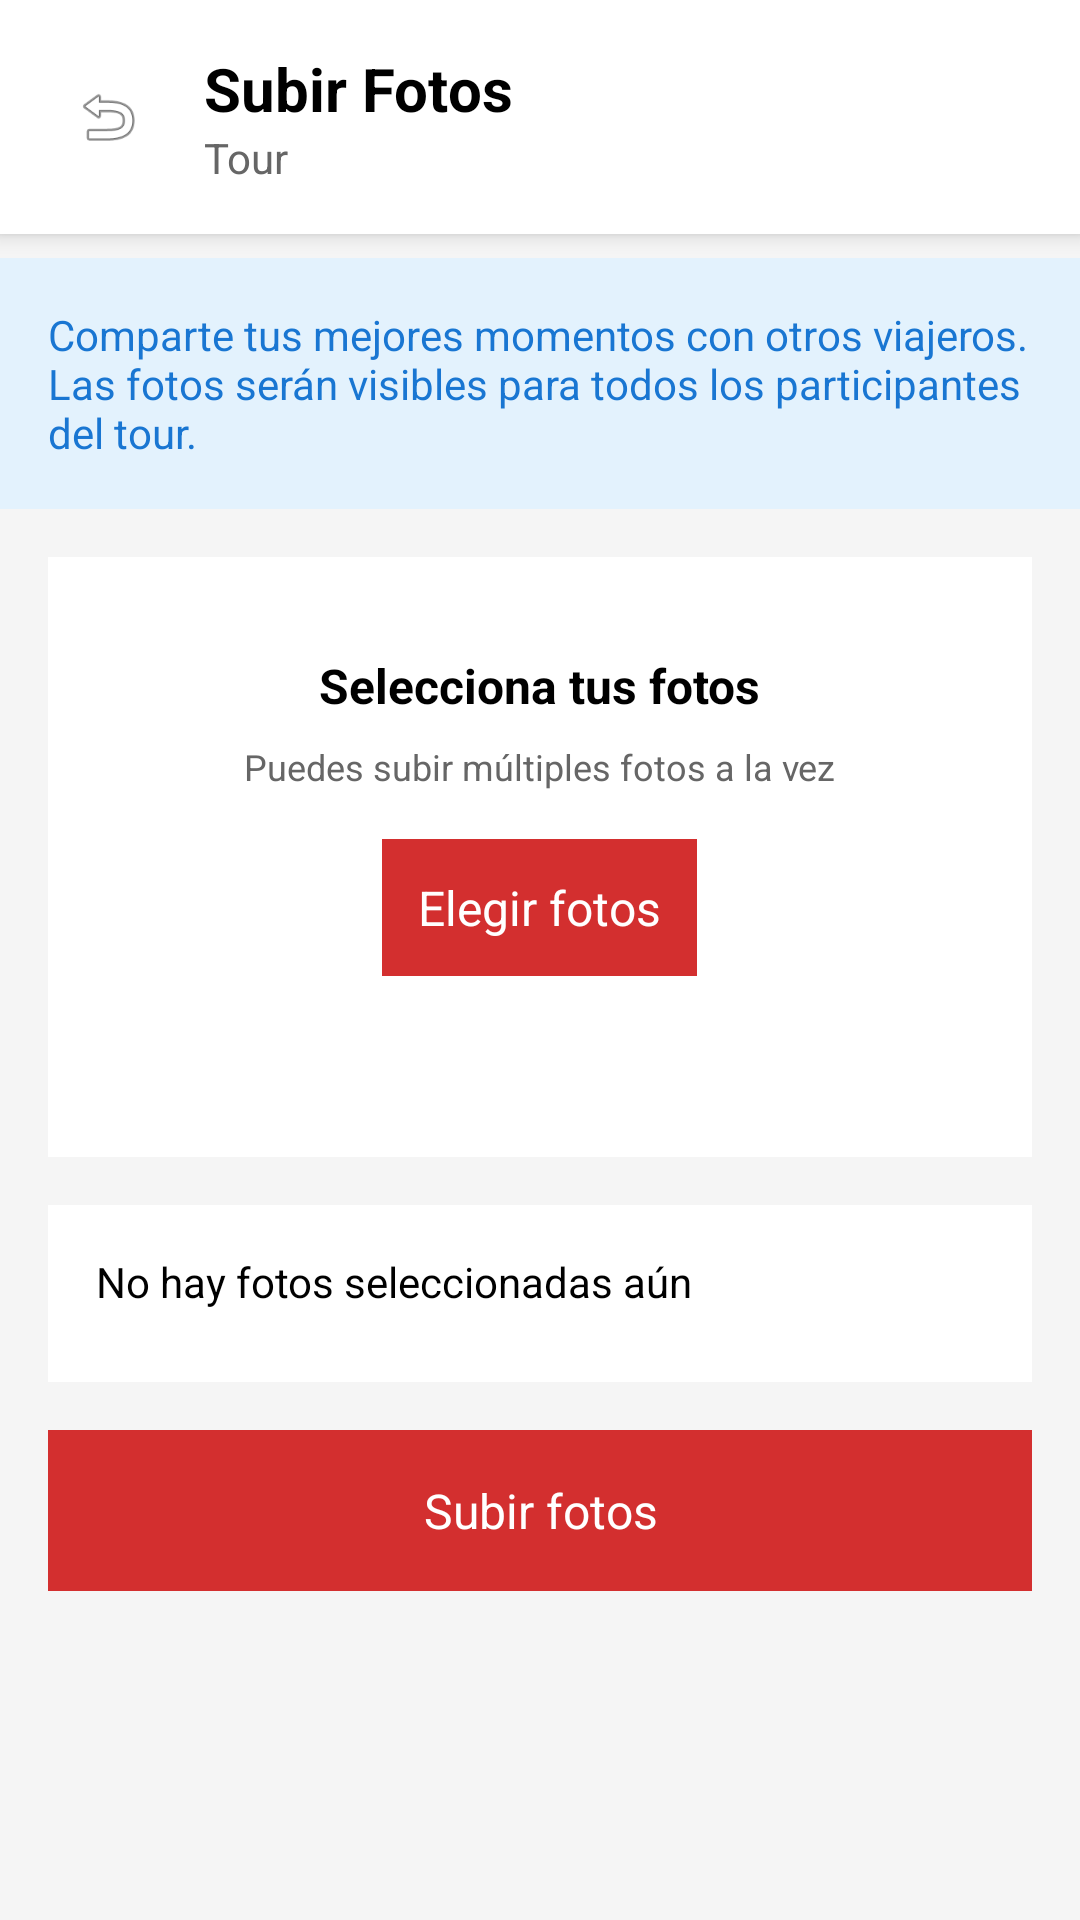

Point at icon controls on the screen. Image size 1080px x 1920px, points as [x,y].
Volver: [109,117]
